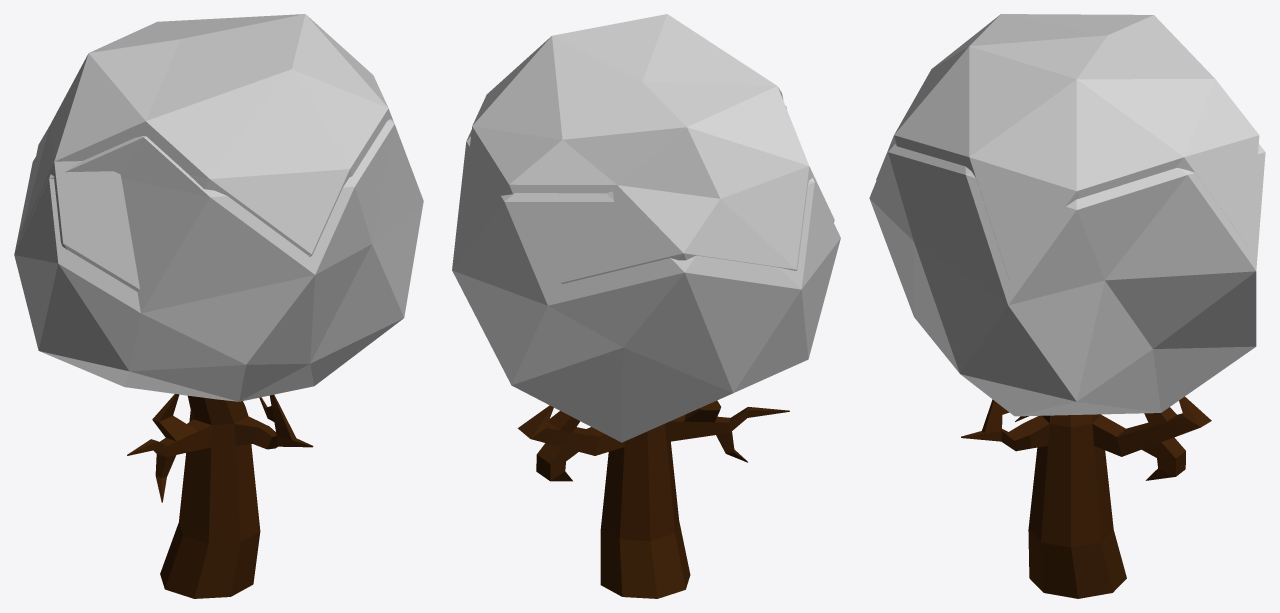
Rendered from Low_Poly_Tree_03c.fbx.
The picture shows the model from 3 angles, left to right: view 1: azimuth 30°, elevation 25°; view 2: azimuth 150°, elevation 25°; view 3: azimuth 270°, elevation 25°; orthographic projection. The views are drawn at different scales.
Visible parts, largest first — view 1: Cylinder_001, Cylinder_003, Cylinder; view 2: Cylinder_003, Cylinder_001, Cylinder; view 3: Cylinder_001, Cylinder_003, Cylinder.
Part boxes in pixels (left/top/right/bottom): Cylinder_001: left=14, top=119, right=423, bottom=401; Cylinder_003: left=20, top=14, right=392, bottom=291; Cylinder: left=127, top=394, right=313, bottom=598; Cylinder_003: left=458, top=14, right=834, bottom=283; Cylinder_001: left=452, top=106, right=840, bottom=442; Cylinder: left=517, top=400, right=789, bottom=598; Cylinder_001: left=869, top=144, right=1265, bottom=416; Cylinder_003: left=876, top=14, right=1259, bottom=282; Cylinder: left=961, top=396, right=1211, bottom=598.
Bounding box in the file's own units: 1.89 × 2.72 × 1.78.
